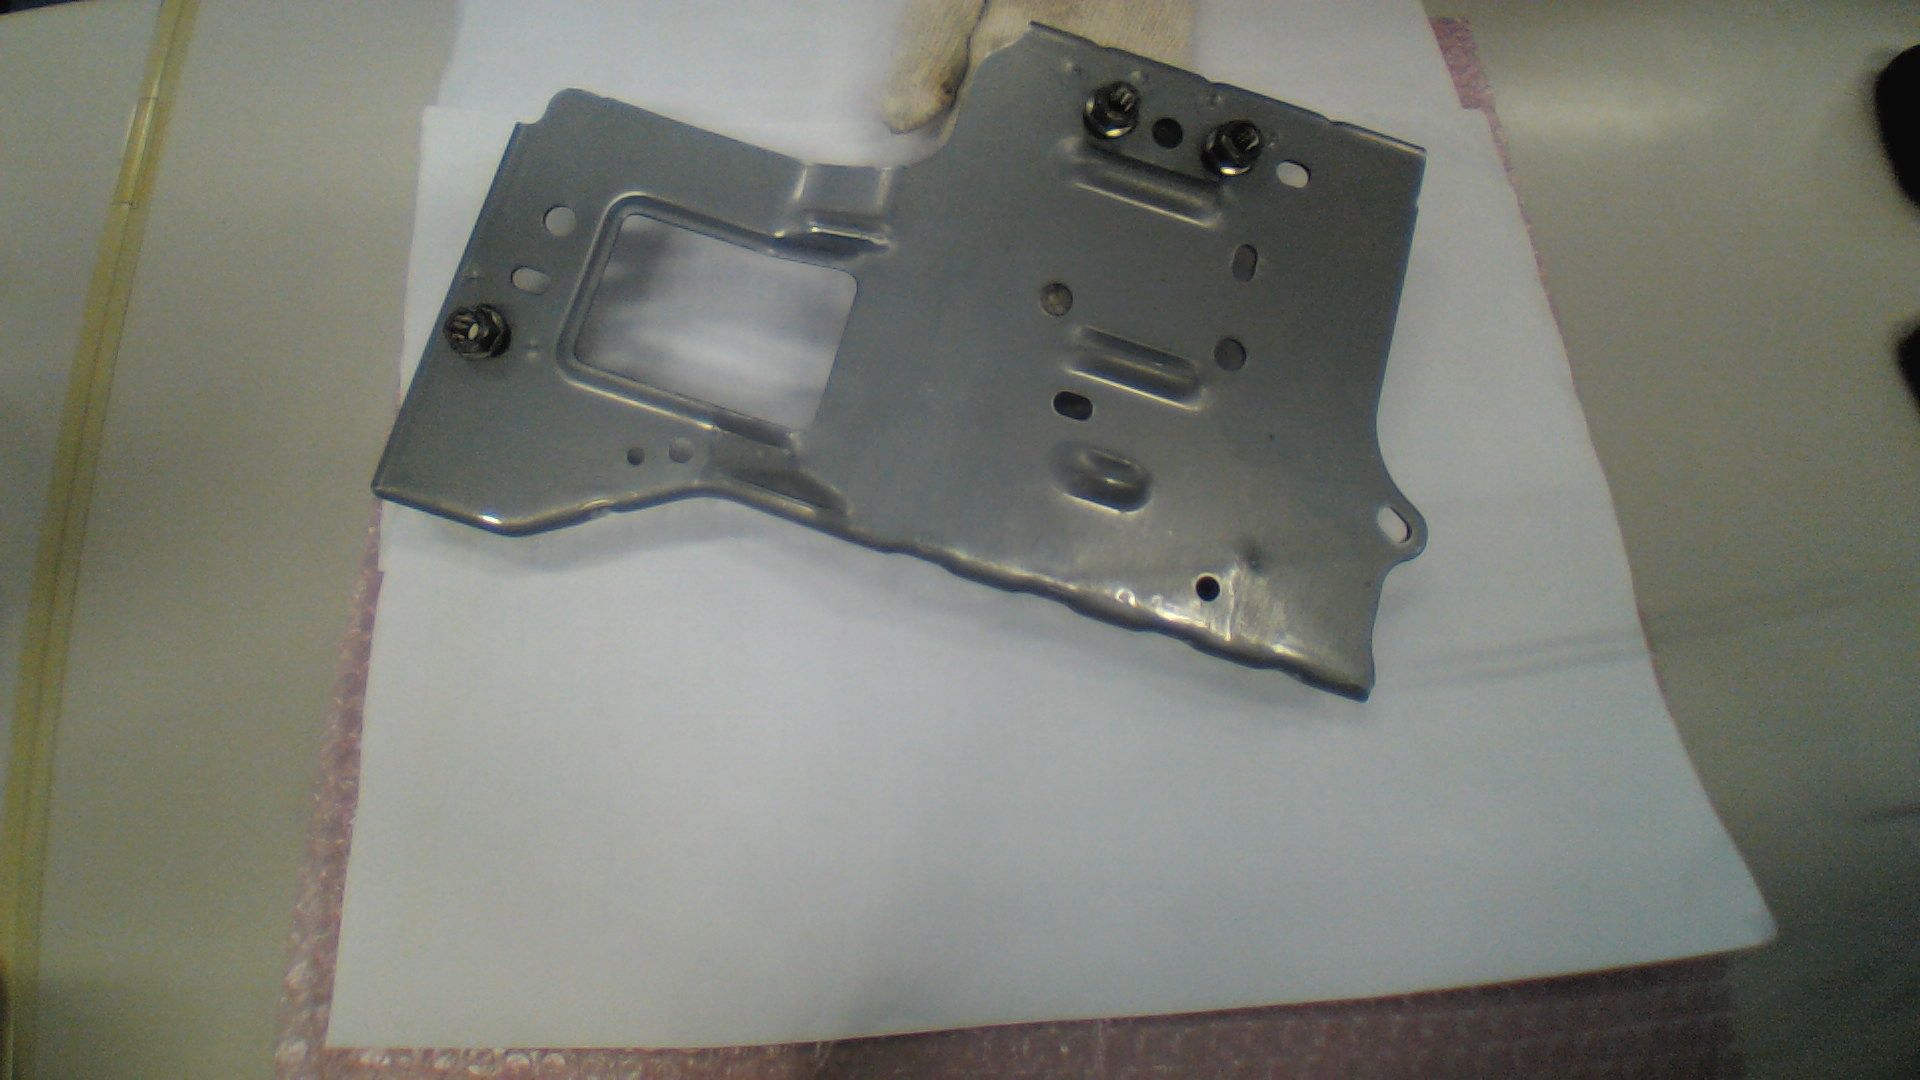dog: (444, 305, 510, 364), (1084, 80, 1143, 142), (1201, 119, 1265, 177)
